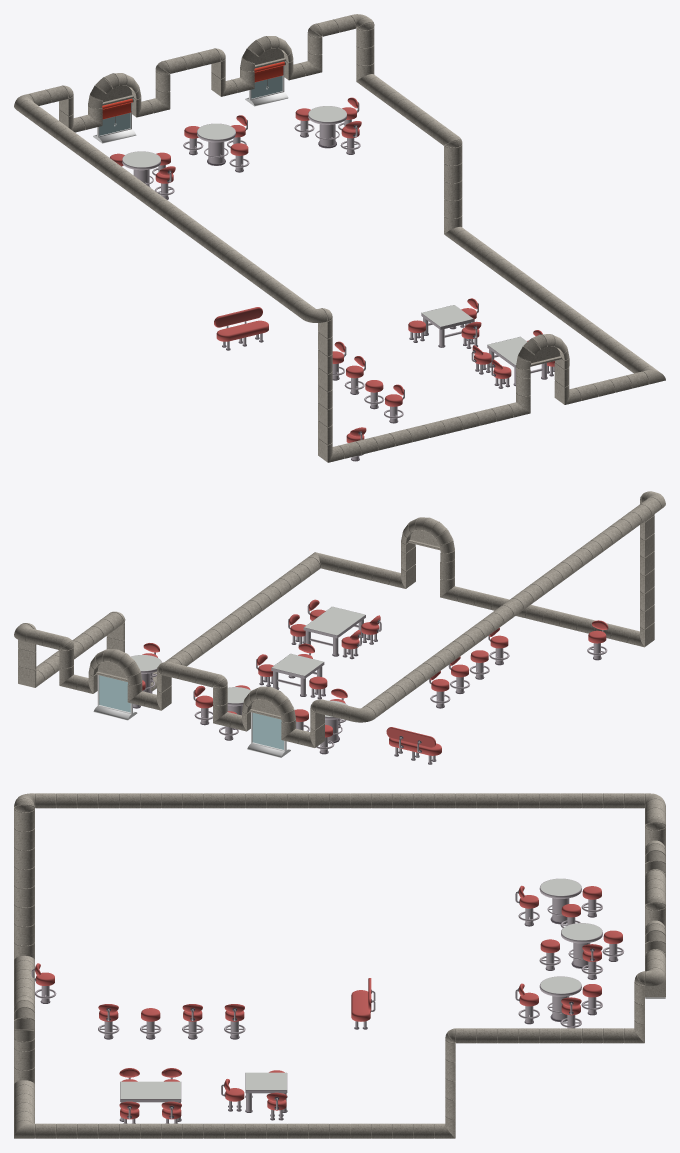
3 renders of one model, top to bottom at view 1: azimuth 30°, elevation 25°; view 2: azimuth 150°, elevation 25°; view 3: azimuth 270°, elevation 25°, orthographic. The views are drawn at different scales.
Parts seen in each view (by area): view 1: textured_16398141, colored; view 2: textured_16398141, colored; view 3: textured_16398141, colored.
Boxes of the visible parts, box(x1,y1,x2,y2) form: textured_16398141: box(14, 14, 665, 462); colored: box(93, 61, 554, 461); textured_16398141: box(14, 491, 665, 747); colored: box(93, 599, 608, 764); textured_16398141: box(14, 793, 665, 1138); colored: box(31, 878, 665, 1123).
Bounding box in the file's own units: 21 × 9.5 × 31.
2 materials, 1 textured.
